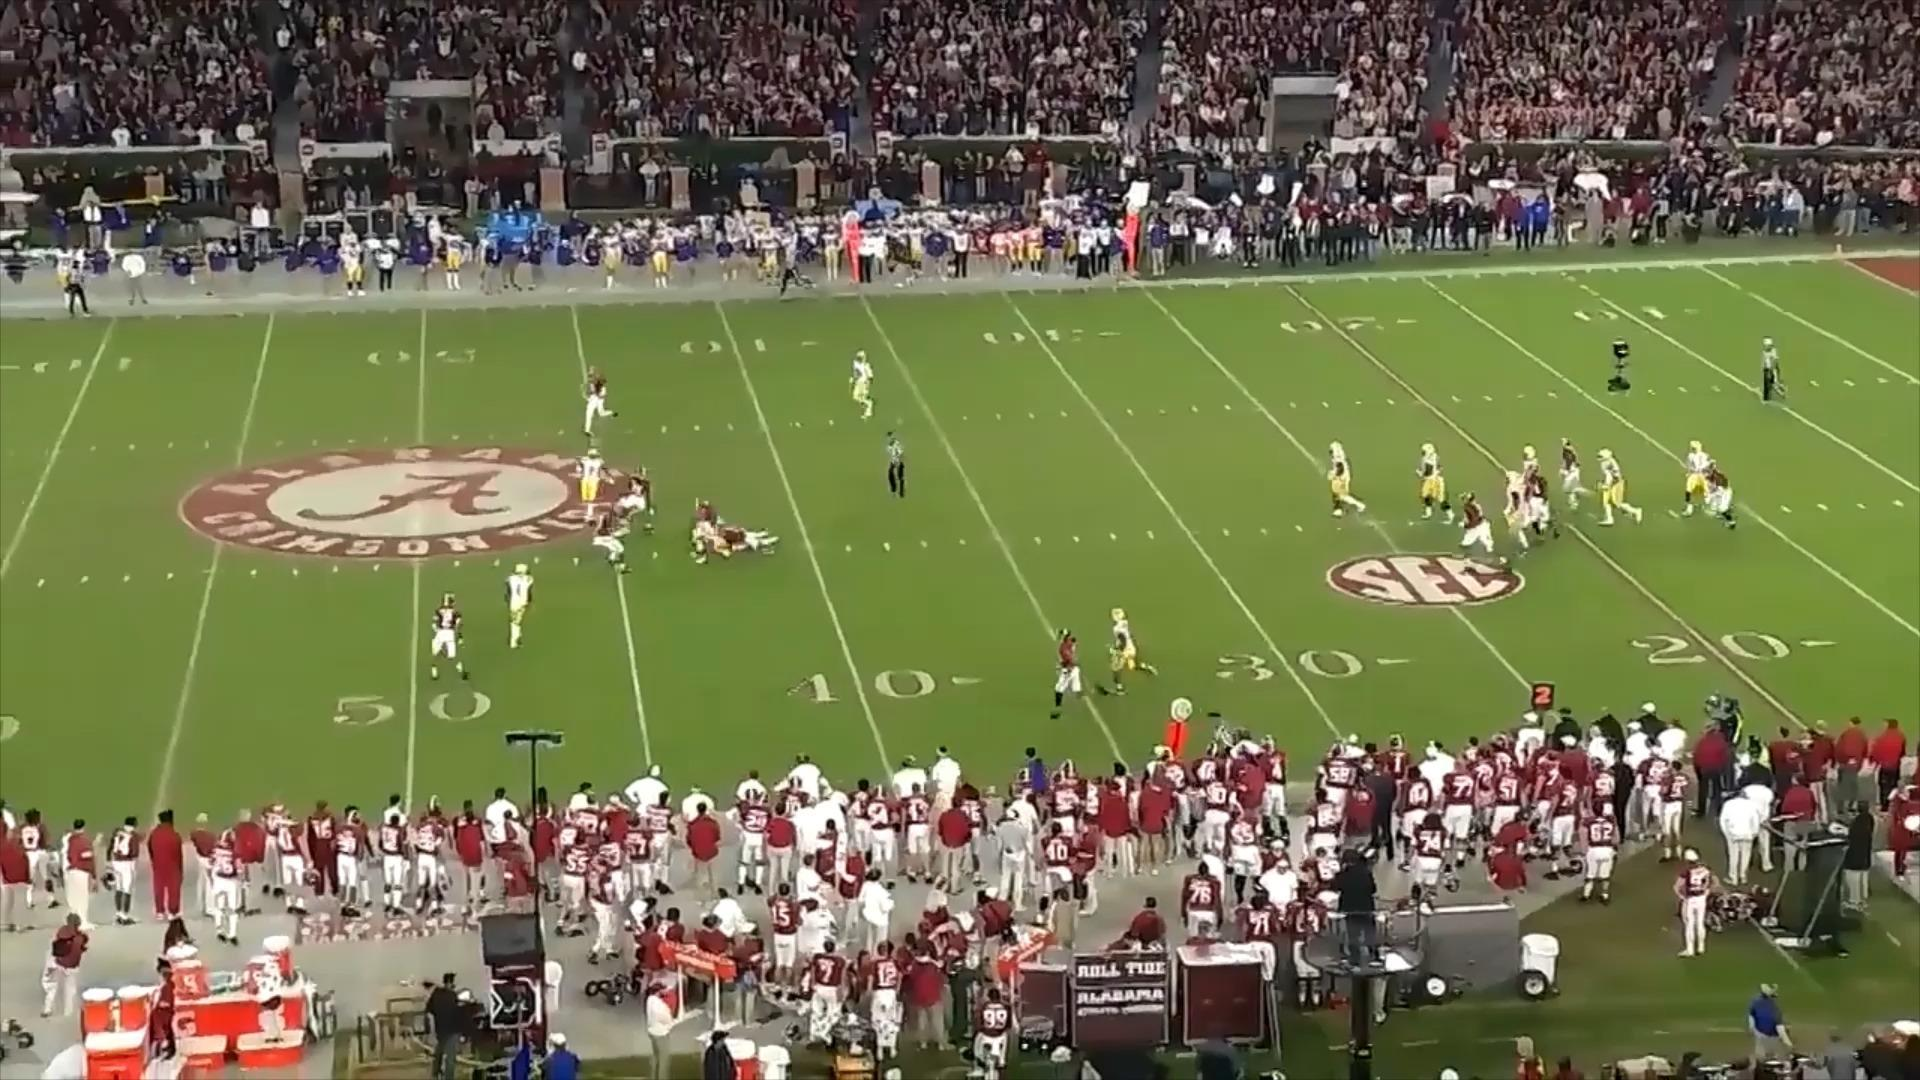10R: (1573, 305, 1702, 323)
20R: (1631, 632, 1837, 665), (1279, 314, 1419, 335)
30R: (1215, 650, 1414, 683), (985, 327, 1125, 345), (682, 338, 820, 355)
40L: (0, 356, 133, 375)
40R: (789, 666, 982, 704)
50: (334, 690, 491, 728), (368, 347, 476, 368)
